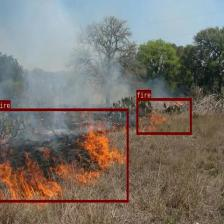fire: (0, 108, 128, 202), (136, 98, 191, 134)
